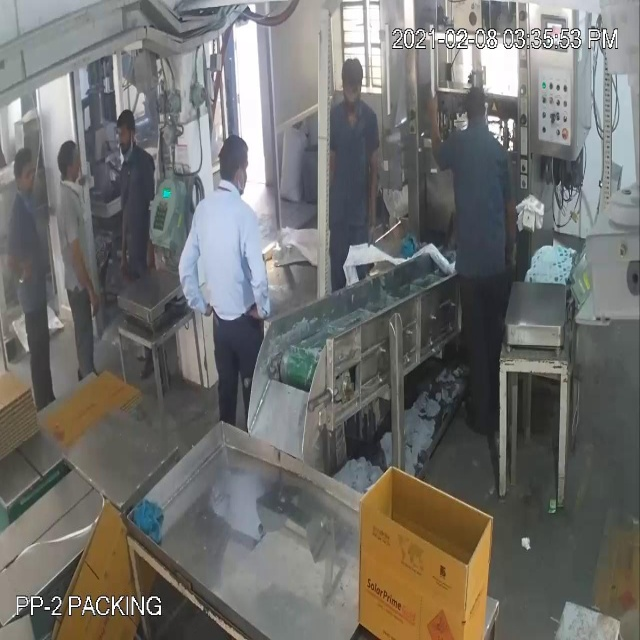Sin_guantes: (64, 212, 106, 333), (174, 215, 218, 327), (237, 213, 273, 338), (8, 215, 38, 295), (365, 137, 386, 246), (502, 156, 521, 262), (426, 94, 448, 176)
